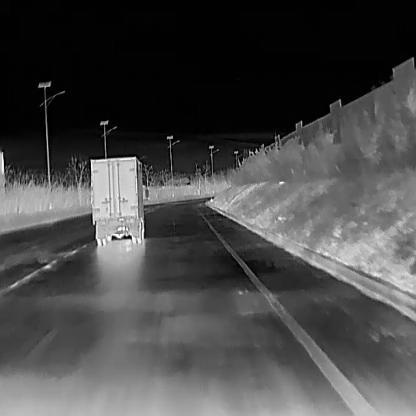car: (90, 155, 148, 247)
